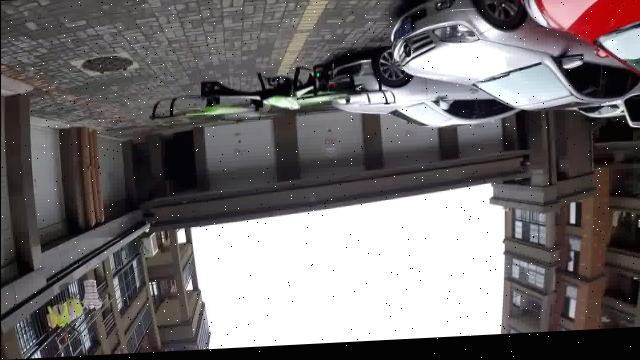drone: (138, 61, 406, 146)
